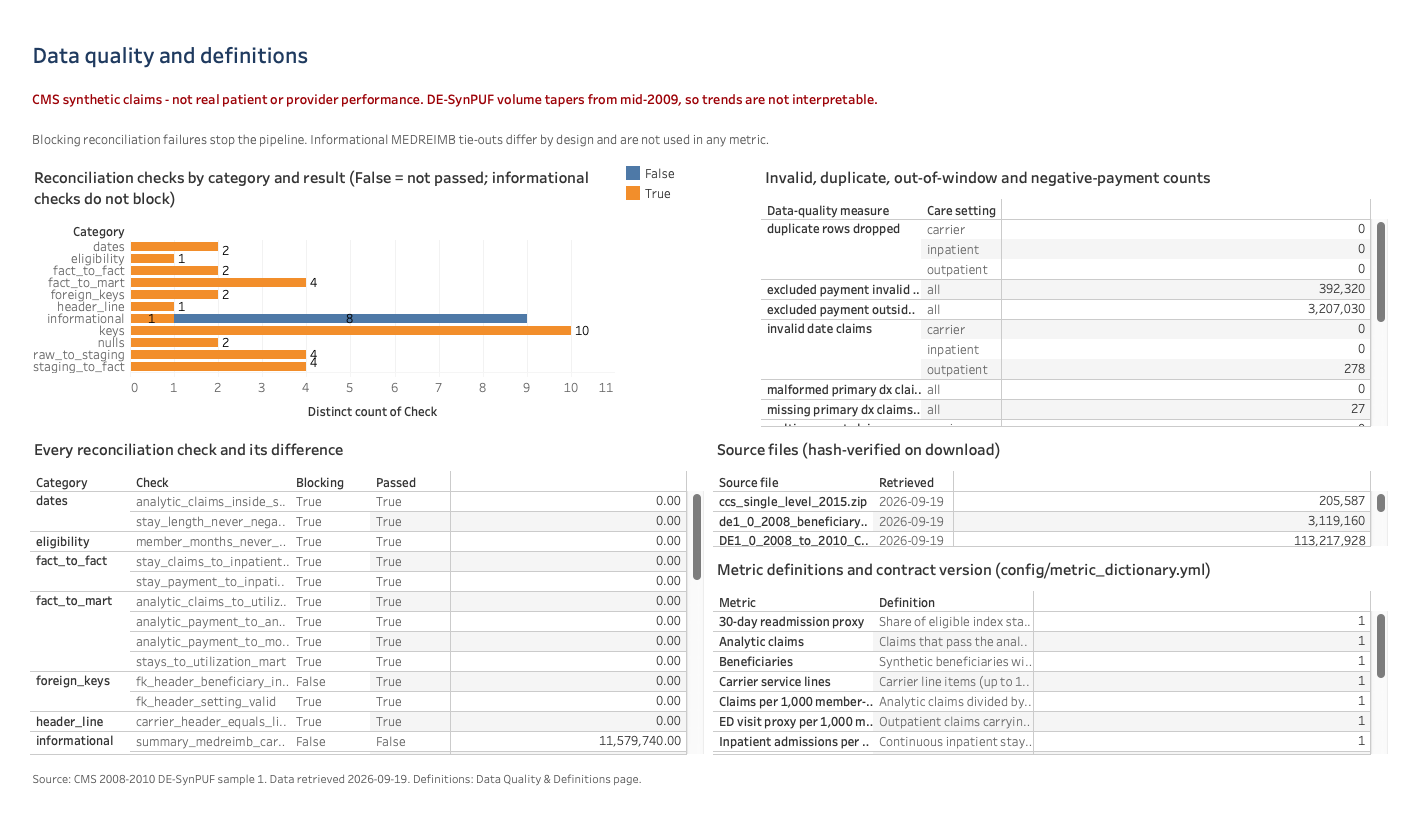

Layout of this report page (visuals, bound fields, positions):
{"tool":"tableau","page":{"name":"Data Quality & Definitions","canvas":[1366,768],"ordinal":4},"visuals":[{"type":"text","box":[0,0,1366,64]},{"type":"text","box":[0,64,1366,32]},{"type":"text","box":[0,96,1366,32]},{"type":"worksheet","title":"Reconciliation status","mark":"Bar","rows":["category"],"cols":["check_name"],"box":[0,128,585.4,272]},{"type":"legend","title":"Reconciliation status","param":"[federated.5f068e01fa487a3257d0a233d3b9].[none:passed:nk]","box":[585.4,128,130.1,272]},{"type":"worksheet","title":"Data-quality counts","mark":"Text","rows":["measure","setting"],"box":[715.5,128,650.5,272]},{"type":"worksheet","title":"Reconciliation detail","mark":"Text","rows":["category","check_name","blocking","passed"],"box":[0,400,683,336]},{"type":"worksheet","title":"Source manifest","mark":"Text","rows":["file","retrieved_at"],"box":[683,400,683,112]},{"type":"worksheet","title":"Metric definitions","mark":"Text","rows":["name","description"],"box":[683,512,683,224]},{"type":"text","box":[0,736,1366,32]}]}

Visuals, with their boxes on the page's 1366x768 design canvas (x1, y1, x2, y2). These are canvas units, not pixel positions in the 1424x826 screenshot, which may show the page scaled, cropped or inside an application window:
text: box=[0, 0, 1366, 64]
text: box=[0, 64, 1366, 96]
text: box=[0, 96, 1366, 128]
"Reconciliation status" worksheet (Bar marks): box=[0, 128, 585, 400]
"Reconciliation status" legend: box=[585, 128, 716, 400]
"Data-quality counts" worksheet (Text marks): box=[716, 128, 1366, 400]
"Reconciliation detail" worksheet (Text marks): box=[0, 400, 683, 736]
"Source manifest" worksheet (Text marks): box=[683, 400, 1366, 512]
"Metric definitions" worksheet (Text marks): box=[683, 512, 1366, 736]
text: box=[0, 736, 1366, 768]
